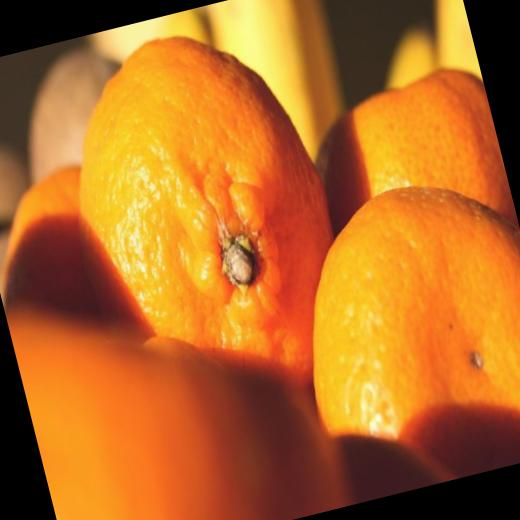Grape: (35, 7, 369, 425), (268, 161, 520, 507), (303, 56, 519, 270), (0, 165, 114, 330)
